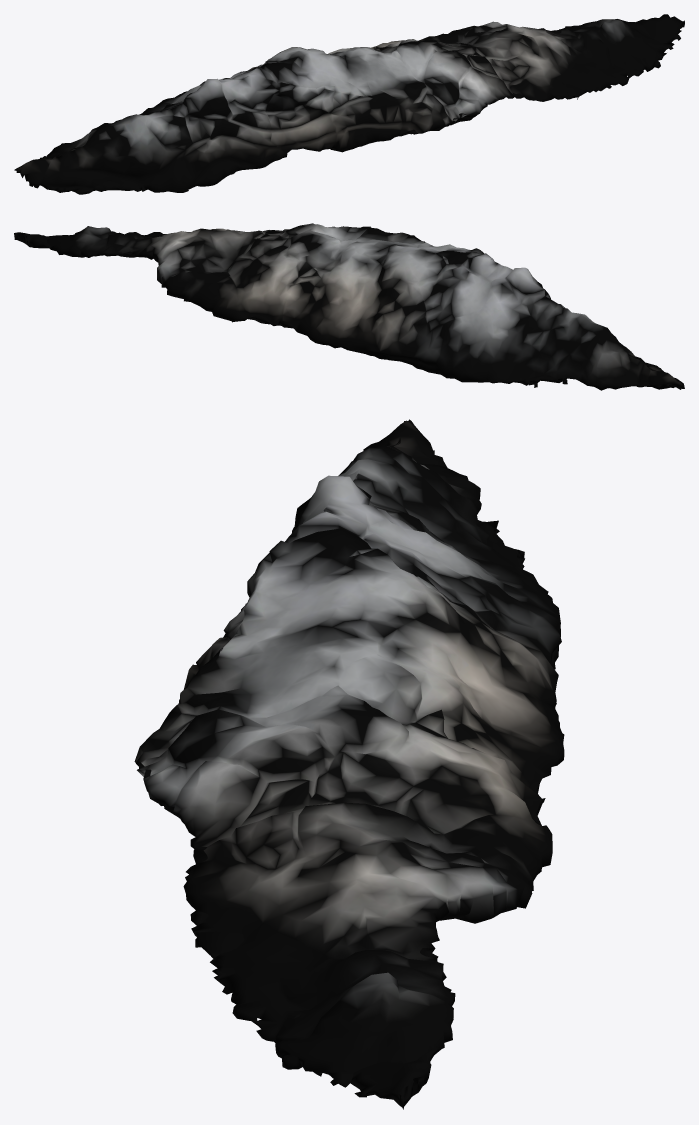
File: cliff.opt.glb
3 renders of one model, top to bottom at view 1: azimuth 30°, elevation 25°; view 2: azimuth 150°, elevation 25°; view 3: azimuth 270°, elevation 25°, orthographic. The views are drawn at different scales.
Parts seen in each view (by area): view 1: cliff; view 2: cliff; view 3: cliff.
Boxes of the visible parts, bbox=[...] form: cliff: bbox=[14, 14, 684, 194]; cliff: bbox=[14, 223, 684, 390]; cliff: bbox=[134, 419, 564, 1109].
Size of the model in its own units: 86.48 by 10.91 by 24.06.
1 material, 1 textured.
